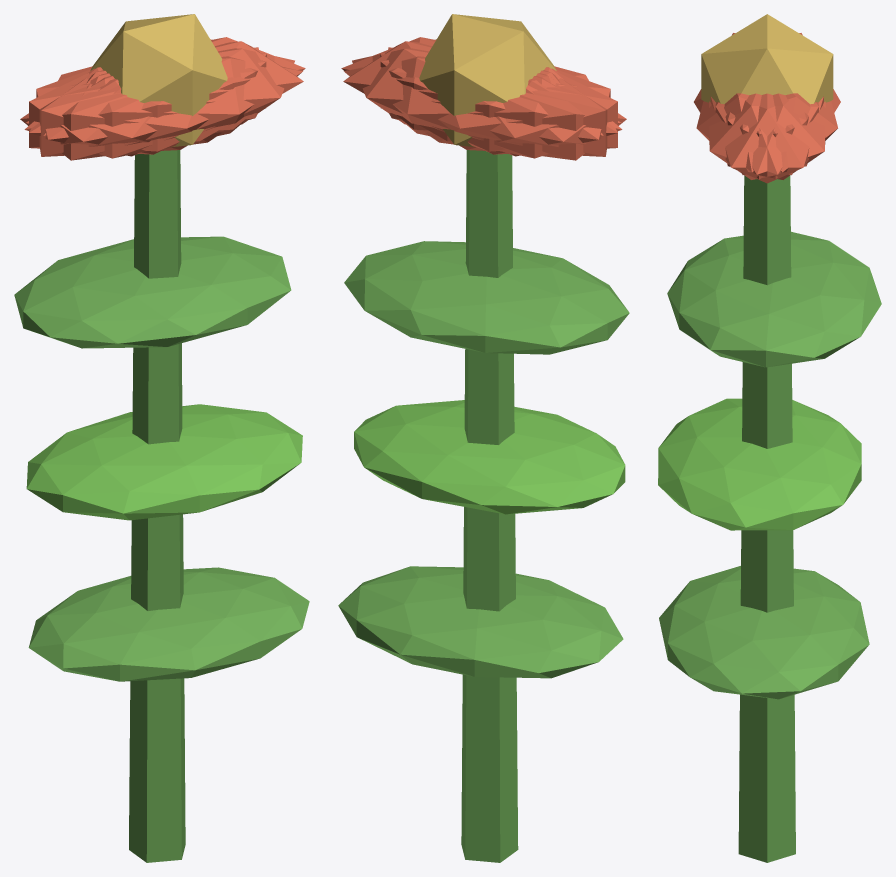
Rendered from trimezia-northiana.glb.
3 views of the same model, side by side, from view 1: azimuth 30°, elevation 25°; view 2: azimuth 150°, elevation 25°; view 3: azimuth 270°, elevation 25° (orthographic).
Parts seen in each view (by area): view 1: stem, leaf1, leaf0, leaf2, center, petal1, petal6, petal2, petal5, petal7, petal0, petal4 (+2 smaller); view 2: stem, leaf2, leaf0, leaf1, center, petal8, petal3, petal7, petal4, petal2, petal0, petal5 (+2 smaller); view 3: stem, leaf2, leaf0, leaf1, center, petal0, petal4, petal5, petal1, petal8.
Boxes of the visible parts, left/top/right/bottom form: stem: left=129, top=150, right=185, bottom=862; leaf1: left=26, top=404, right=302, bottom=520; leaf0: left=28, top=567, right=309, bottom=681; leaf2: left=14, top=236, right=291, bottom=348; center: left=90, top=14, right=227, bottom=147; petal1: left=24, top=56, right=302, bottom=158; petal6: left=20, top=68, right=221, bottom=160; petal2: left=39, top=47, right=258, bottom=156; petal5: left=43, top=48, right=294, bottom=151; petal7: left=29, top=53, right=266, bottom=154; petal0: left=90, top=41, right=303, bottom=141; petal4: left=26, top=37, right=305, bottom=133; stem: left=461, top=150, right=518, bottom=862; leaf2: left=344, top=241, right=629, bottom=354; leaf0: left=338, top=566, right=623, bottom=678; leaf1: left=354, top=400, right=625, bottom=514; center: left=419, top=14, right=556, bottom=147; petal8: left=344, top=56, right=622, bottom=158; petal3: left=425, top=68, right=626, bottom=160; petal7: left=388, top=47, right=607, bottom=156; petal4: left=352, top=48, right=603, bottom=151; petal2: left=380, top=53, right=617, bottom=154; petal0: left=343, top=41, right=556, bottom=141; petal5: left=341, top=37, right=620, bottom=133; stem: left=738, top=175, right=795, bottom=862; leaf2: left=667, top=231, right=881, bottom=367; leaf0: left=659, top=566, right=869, bottom=699; leaf1: left=658, top=398, right=861, bottom=530; center: left=701, top=14, right=833, bottom=104; petal0: left=710, top=93, right=823, bottom=183; petal4: left=715, top=93, right=825, bottom=179; petal5: left=709, top=93, right=818, bottom=179; petal1: left=696, top=93, right=808, bottom=172; petal8: left=725, top=93, right=837, bottom=172.
Size of the model in its own units: 0.1452 by 0.4195 by 0.1039.
